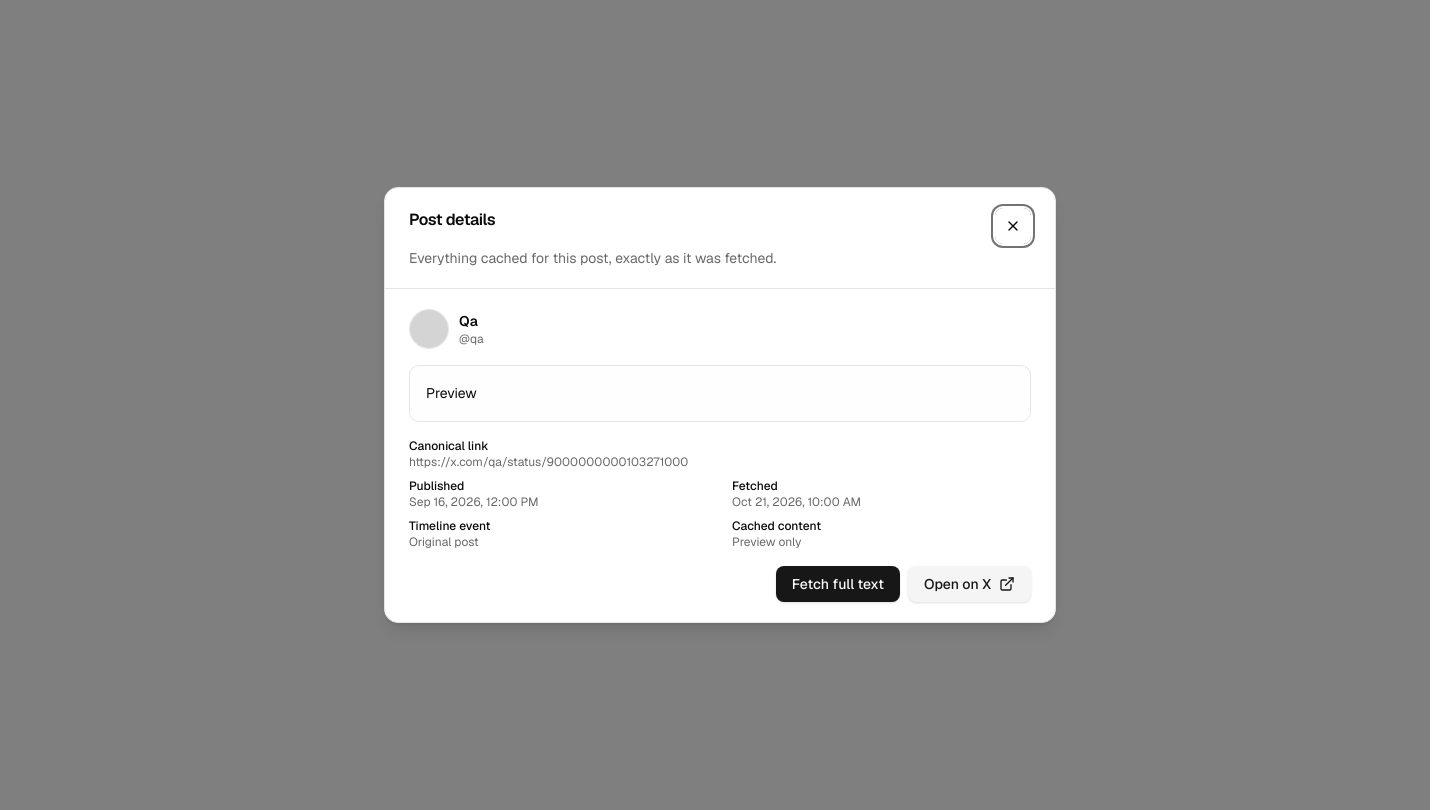
Test: keeps unavailable posts recoverable with honest feedback
The width and height of the screenshot is (1440, 810).
Click the button "Fetch full text" at x=838, y=584, box [776,566,900,602]
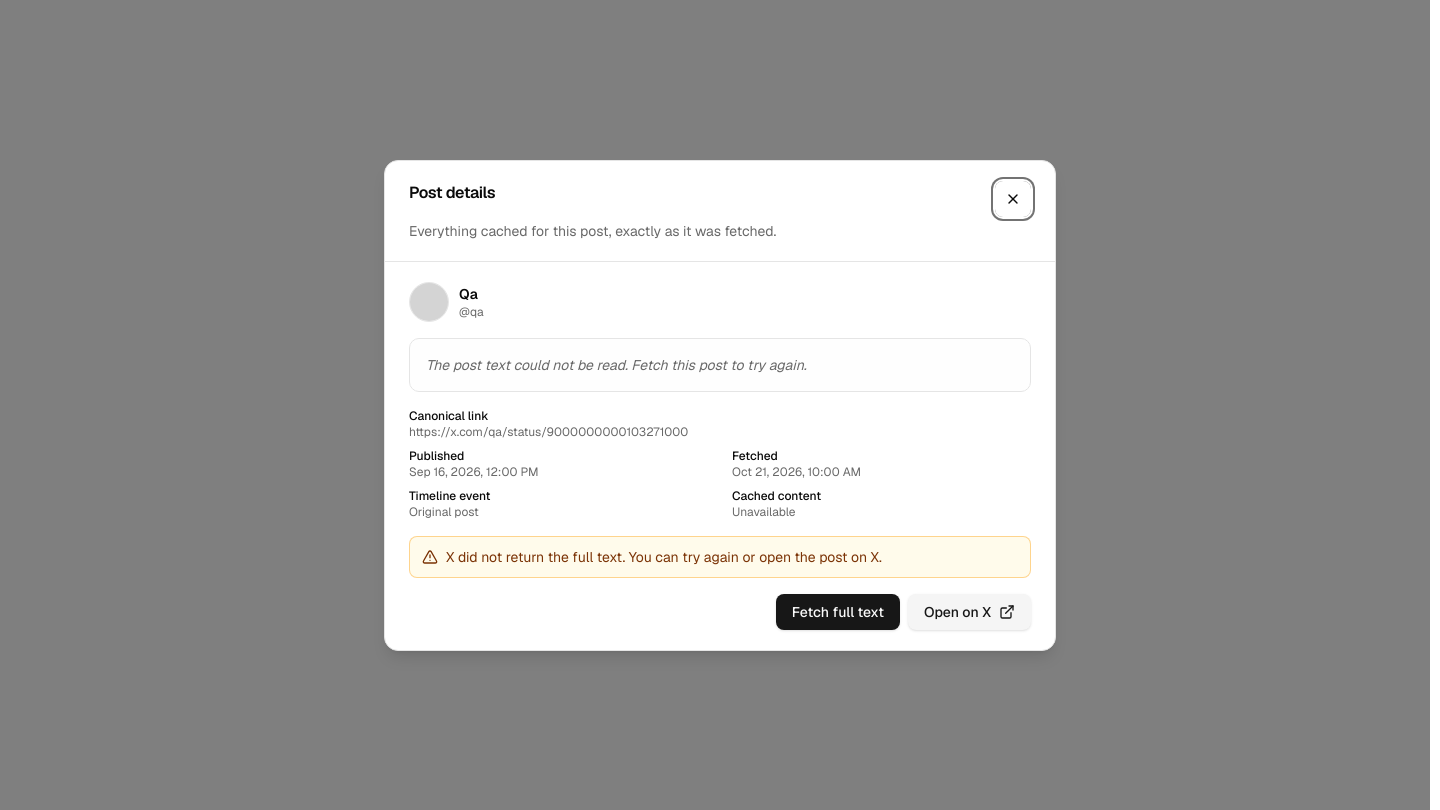
Check: the button "Fetch full text" is shown, box [776,594,900,630]
Check: the message reads "X did not return the full text. You can try again or open the post on X.", box [446,548,882,566]
